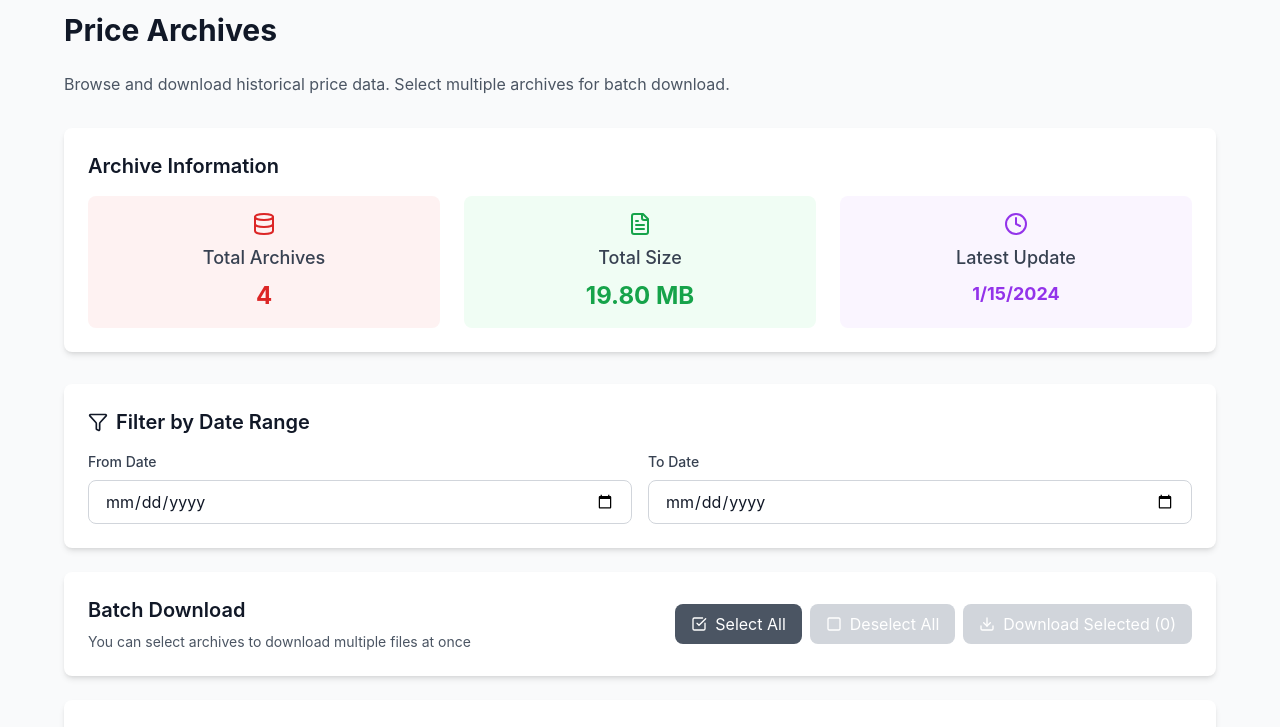
ArchivesPage › clears date filter when clear button is clicked
Check: the heading "Price Archives" is shown, box [64, 12, 277, 48]
# Set a date filter
Type "2024-01-14" into the date field labelled "From Date" at (360, 502), box [88, 480, 632, 524]
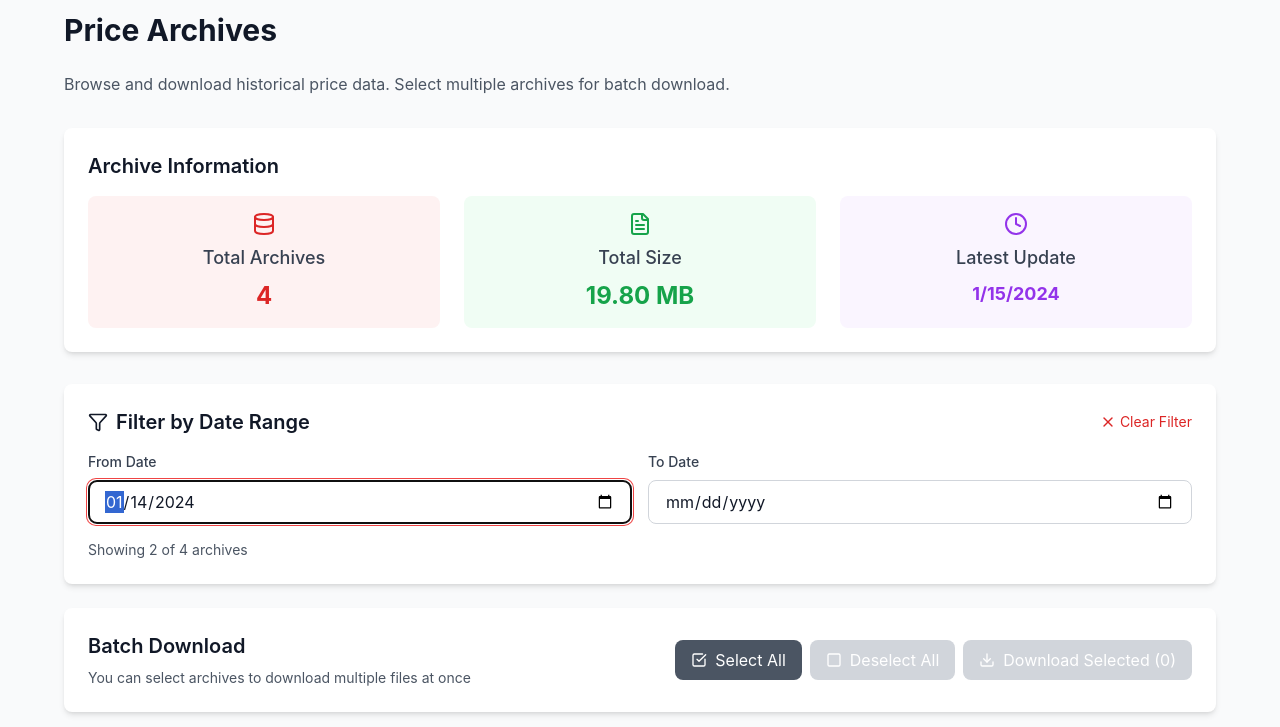
Check: the button "Clear Filter" is shown
# Click clear filter
Click the button "Clear Filter" at (1146, 422), box [1100, 412, 1192, 432]
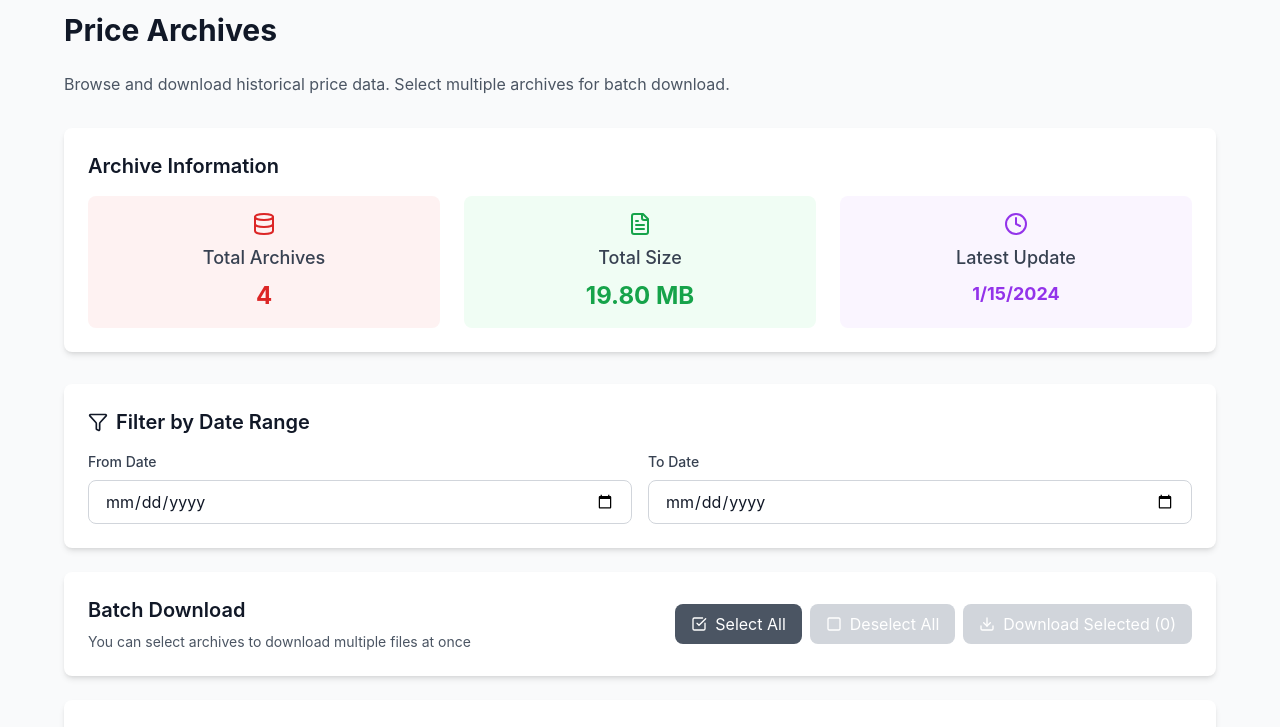
Check: the date field labelled "From Date" is empty, box [88, 480, 632, 524]
